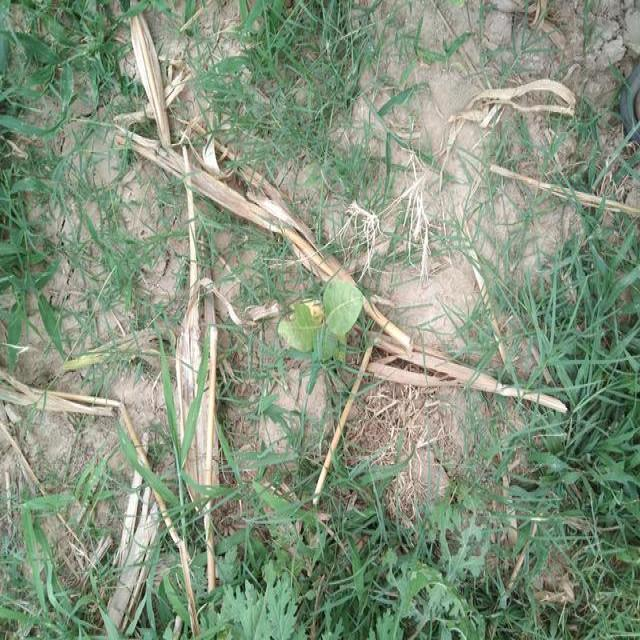crop: (275, 260, 383, 369)
